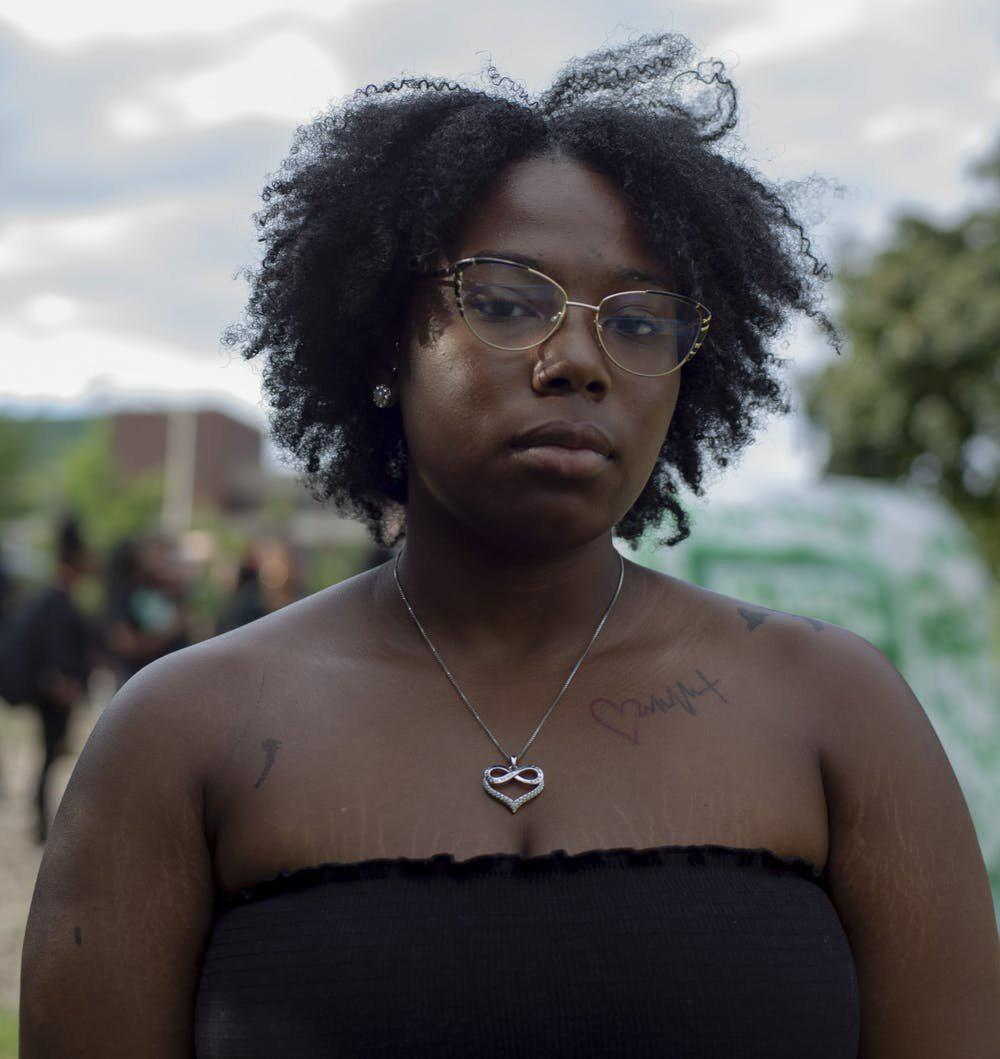Sober: (403, 158, 674, 522)
